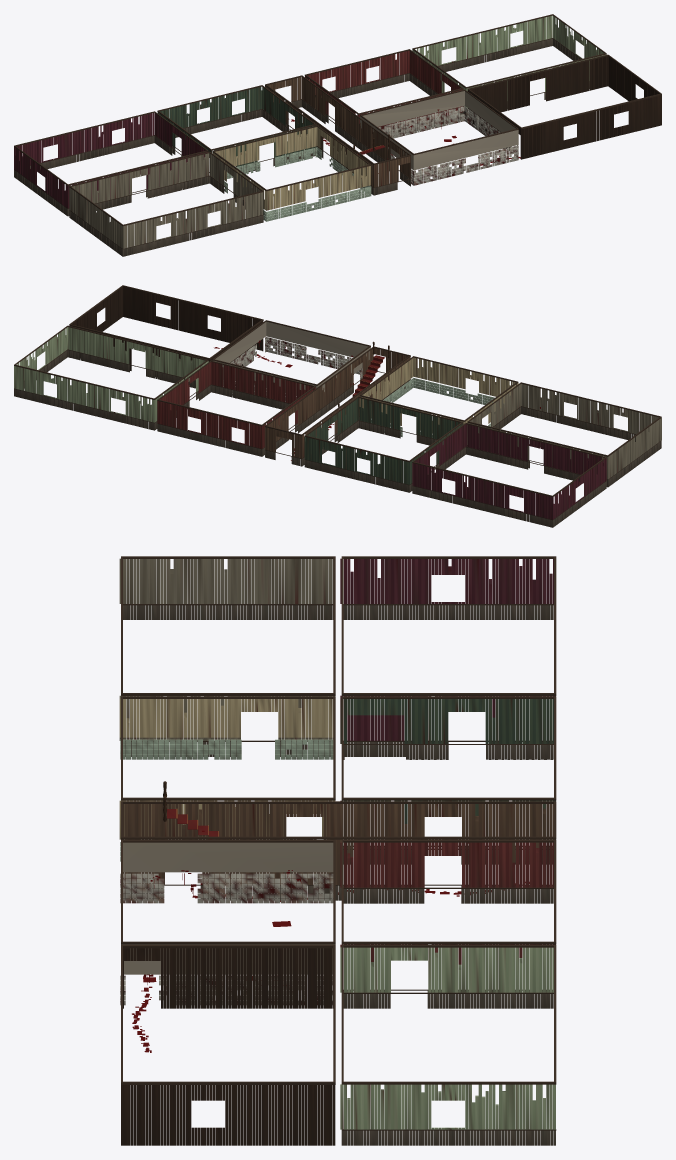
Rendered from FarmhouseInteriorGround2.glb.
3 renders of one model, top to bottom at view 1: azimuth 30°, elevation 25°; view 2: azimuth 150°, elevation 25°; view 3: azimuth 270°, elevation 25°, orthographic. The views are drawn at different scales.
Visible parts, largest first — view 1: FarmhouseInteriorGround2_panel_dark, FarmhouseInteriorGround2_trim, FarmhouseInteriorGround2_wood_old, FarmhouseInteriorGround2_paper_mudroomA, FarmhouseInteriorGround2_paper_mudroomB, FarmhouseInteriorGround2_plaster_raw, FarmhouseInteriorGround2_paper_parlorA, FarmhouseInteriorGround2_paper_parlorB, FarmhouseInteriorGround2_paper_kitchenB, FarmhouseInteriorGround2_paper_kitchenA, FarmhouseInteriorGround2_tile, FarmhouseInteriorGround2_paper_hallA (+9 smaller); view 2: FarmhouseInteriorGround2_wood_old, FarmhouseInteriorGround2_trim, FarmhouseInteriorGround2_paper_parlorA, FarmhouseInteriorGround2_paper_parlorB, FarmhouseInteriorGround2_panel_dark, FarmhouseInteriorGround2_paper_sunA, FarmhouseInteriorGround2_paper_sunB, FarmhouseInteriorGround2_paper_diningB, FarmhouseInteriorGround2_paper_mudroomB, FarmhouseInteriorGround2_paper_mudroomA, FarmhouseInteriorGround2_paper_diningA, FarmhouseInteriorGround2_paper_livingA (+10 smaller); view 3: FarmhouseInteriorGround2_panel_dark, FarmhouseInteriorGround2_trim, FarmhouseInteriorGround2_wood_old, FarmhouseInteriorGround2_paper_sunA, FarmhouseInteriorGround2_paper_sunB, FarmhouseInteriorGround2_plaster_raw, FarmhouseInteriorGround2_paper_hallA, FarmhouseInteriorGround2_paper_hallB, FarmhouseInteriorGround2_tile, FarmhouseInteriorGround2_paper_mudroomA, FarmhouseInteriorGround2_paper_mudroomB, FarmhouseInteriorGround2_paper_parlorB (+10 smaller).
Part boxes in pixels (left/top/right/bottom): FarmhouseInteriorGround2_panel_dark: left=467, top=56, right=661, bottom=159; FarmhouseInteriorGround2_trim: left=14, top=14, right=661, bottom=249; FarmhouseInteriorGround2_wood_old: left=14, top=38, right=589, bottom=256; FarmhouseInteriorGround2_paper_mudroomA: left=69, top=153, right=261, bottom=248; FarmhouseInteriorGround2_paper_mudroomB: left=70, top=153, right=263, bottom=248; FarmhouseInteriorGround2_plaster_raw: left=360, top=91, right=518, bottom=170; FarmhouseInteriorGround2_paper_parlorA: left=14, top=113, right=205, bottom=208; FarmhouseInteriorGround2_paper_parlorB: left=15, top=113, right=208, bottom=208; FarmhouseInteriorGround2_paper_kitchenB: left=213, top=127, right=371, bottom=210; FarmhouseInteriorGround2_paper_kitchenA: left=212, top=127, right=369, bottom=210; FarmhouseInteriorGround2_tile: left=378, top=106, right=518, bottom=185; FarmhouseInteriorGround2_paper_hallA: left=265, top=77, right=410, bottom=187; FarmhouseInteriorGround2_wood_old: left=14, top=350, right=661, bottom=527; FarmhouseInteriorGround2_trim: left=14, top=285, right=661, bottom=520; FarmhouseInteriorGround2_paper_parlorA: left=412, top=424, right=606, bottom=519; FarmhouseInteriorGround2_paper_parlorB: left=413, top=424, right=606, bottom=519; FarmhouseInteriorGround2_panel_dark: left=70, top=287, right=263, bottom=377; FarmhouseInteriorGround2_paper_sunA: left=14, top=327, right=207, bottom=422; FarmhouseInteriorGround2_paper_sunB: left=14, top=327, right=208, bottom=422; FarmhouseInteriorGround2_paper_diningB: left=157, top=362, right=315, bottom=448; FarmhouseInteriorGround2_paper_mudroomB: left=468, top=384, right=661, bottom=478; FarmhouseInteriorGround2_paper_mudroomA: left=467, top=384, right=660, bottom=479; FarmhouseInteriorGround2_paper_diningA: left=157, top=362, right=315, bottom=448; FarmhouseInteriorGround2_paper_livingA: left=304, top=398, right=462, bottom=484; FarmhouseInteriorGround2_panel_dark: left=121, top=948, right=335, bottom=1145; FarmhouseInteriorGround2_trim: left=121, top=556, right=556, bottom=1130; FarmhouseInteriorGround2_wood_old: left=123, top=605, right=555, bottom=1145; FarmhouseInteriorGround2_paper_sunA: left=344, top=947, right=555, bottom=1129; FarmhouseInteriorGround2_paper_sunB: left=340, top=947, right=552, bottom=1129; FarmhouseInteriorGround2_plaster_raw: left=121, top=842, right=335, bottom=974; FarmhouseInteriorGround2_paper_hallA: left=121, top=804, right=555, bottom=884; FarmhouseInteriorGround2_paper_hallB: left=124, top=804, right=552, bottom=884; FarmhouseInteriorGround2_tile: left=120, top=873, right=333, bottom=1005; FarmhouseInteriorGround2_paper_mudroomA: left=123, top=559, right=334, bottom=740; FarmhouseInteriorGround2_paper_mudroomB: left=119, top=558, right=331, bottom=740; FarmhouseInteriorGround2_paper_parlorB: left=340, top=558, right=552, bottom=740.
Size of the model in its own units: 203 by 17.73 by 71.18.
